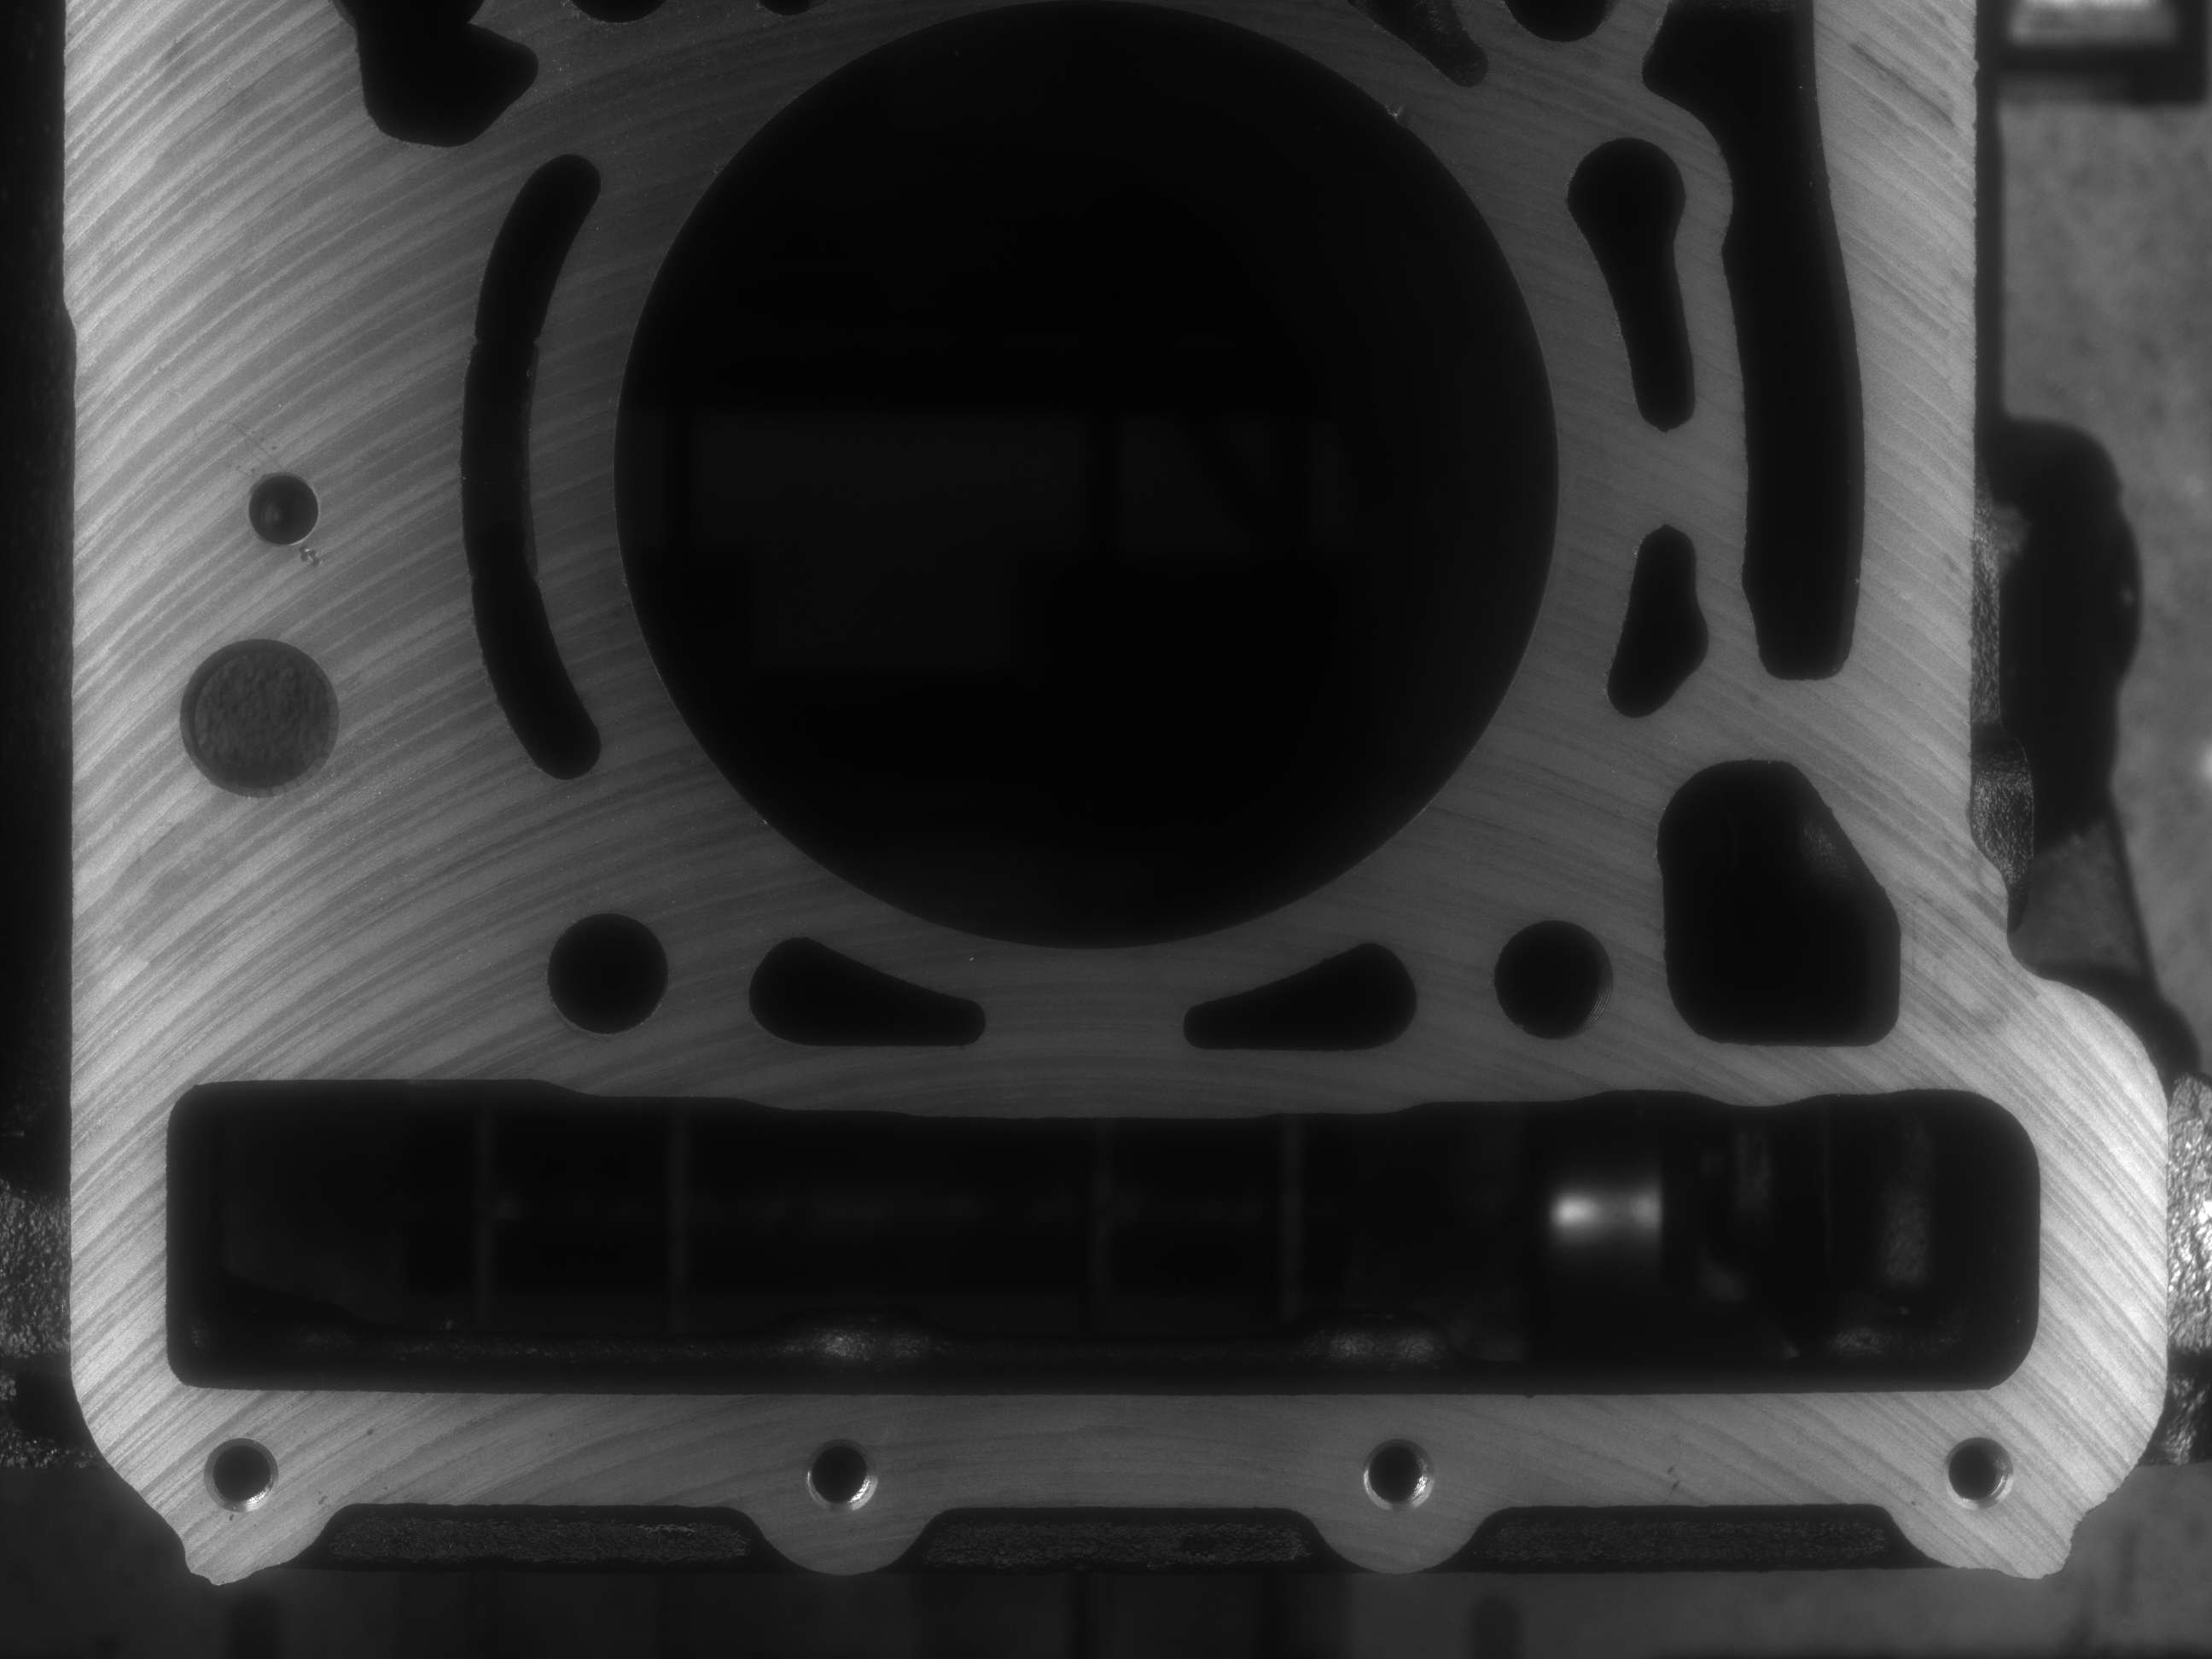shrinkage: (287, 525, 336, 572)
